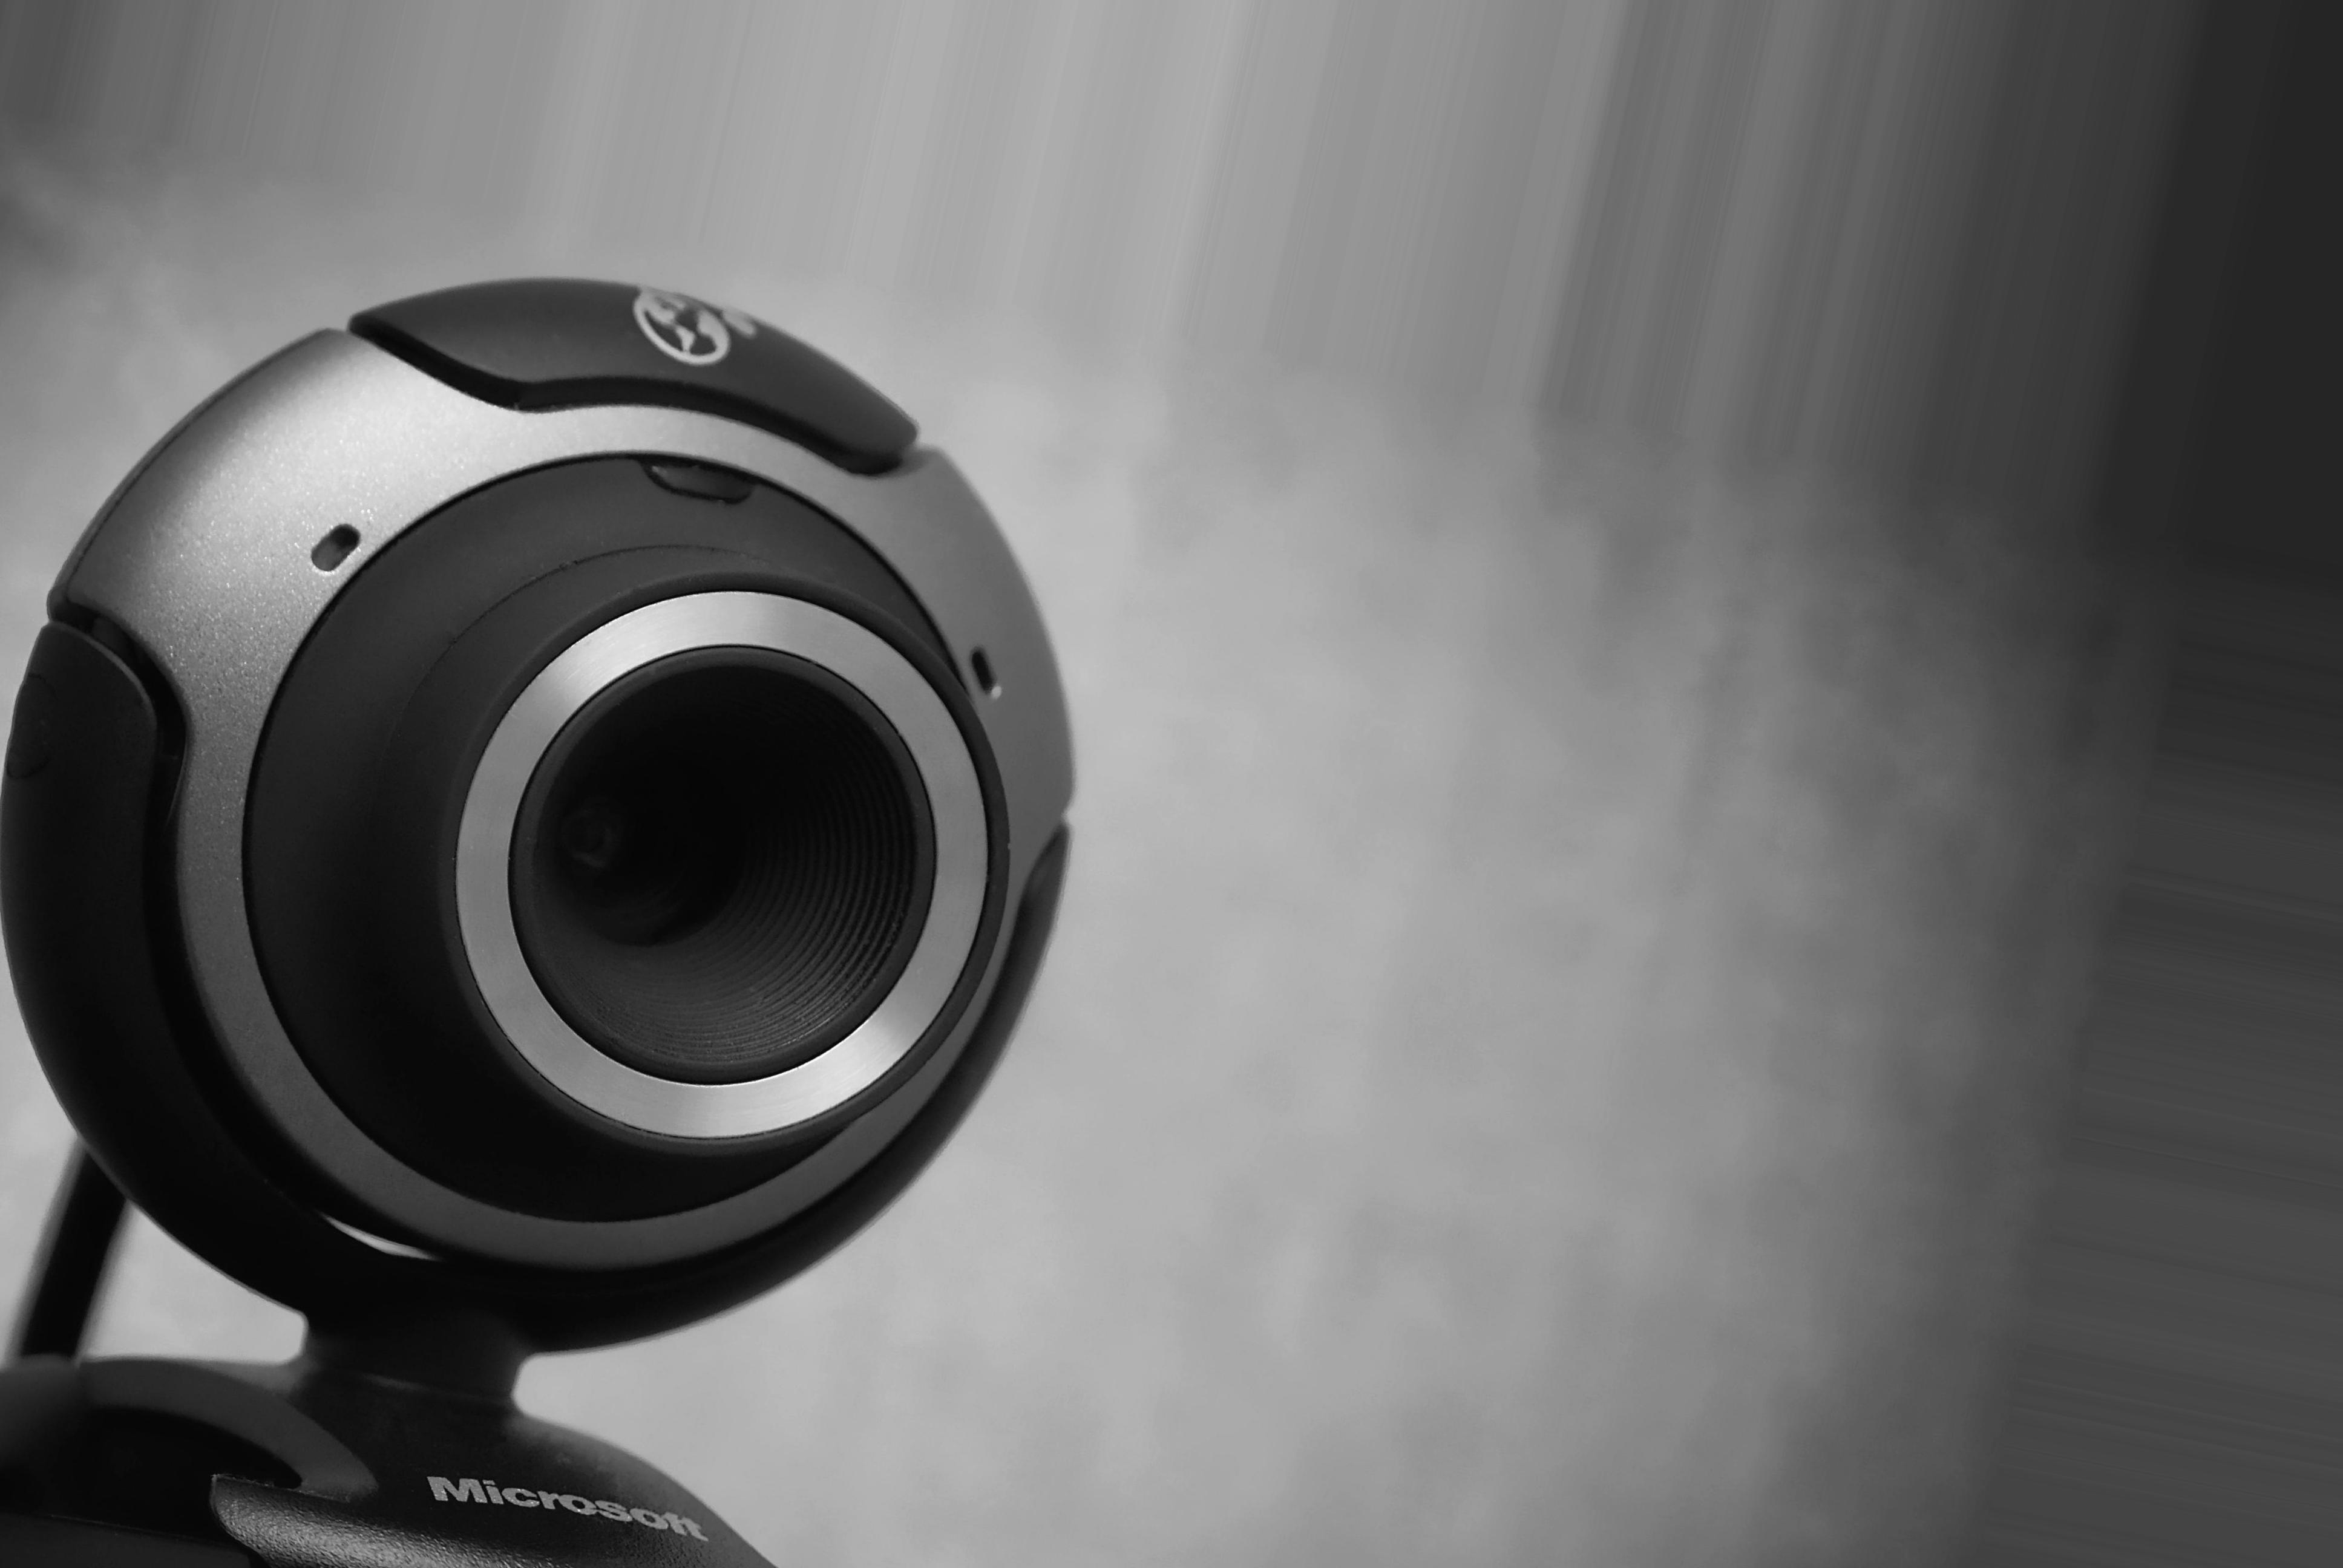webcam: (0, 248, 1148, 1367)
